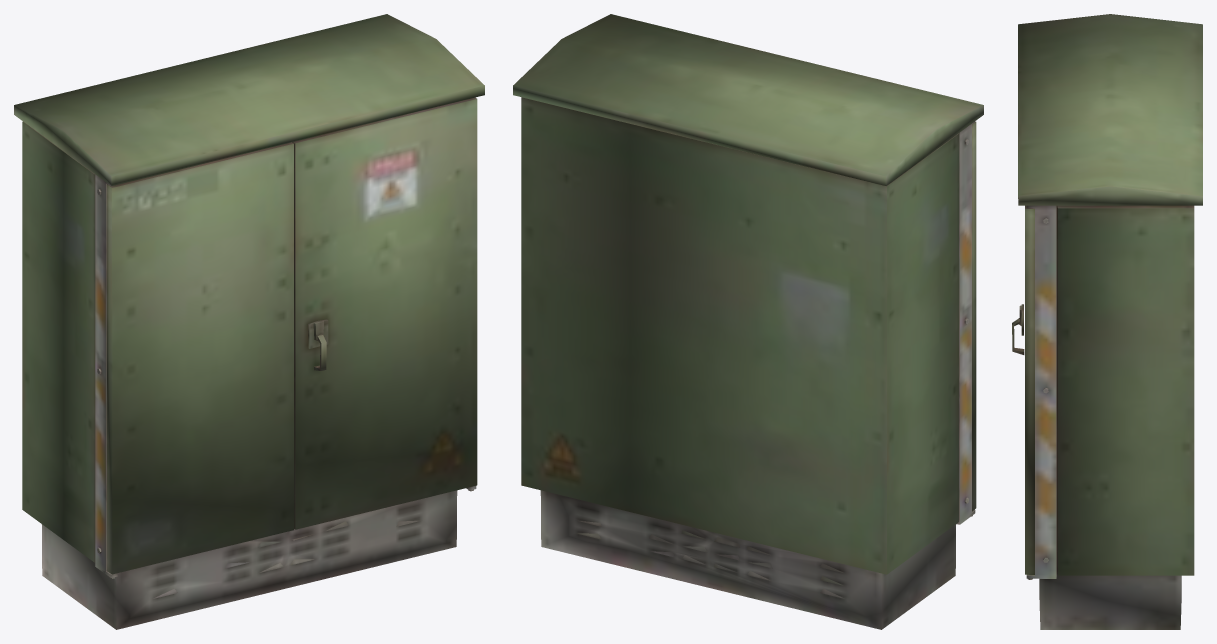
The model's file is utility_box_02.glb.
The picture shows the model from 3 angles, left to right: view 1: azimuth 30°, elevation 25°; view 2: azimuth 150°, elevation 25°; view 3: azimuth 270°, elevation 25°; orthographic projection. The views are drawn at different scales.
Visible parts, largest first — view 1: utility_box_02; view 2: utility_box_02; view 3: utility_box_02.
Part boxes in pixels (box(x1,y1,x2,y2)): utility_box_02: box(14, 14, 484, 629); utility_box_02: box(513, 14, 983, 629); utility_box_02: box(1012, 14, 1202, 629).
Bounding box in the file's own units: 0.9165 × 1.12 × 0.4287.
Materials: 1 (1 with a texture image).
